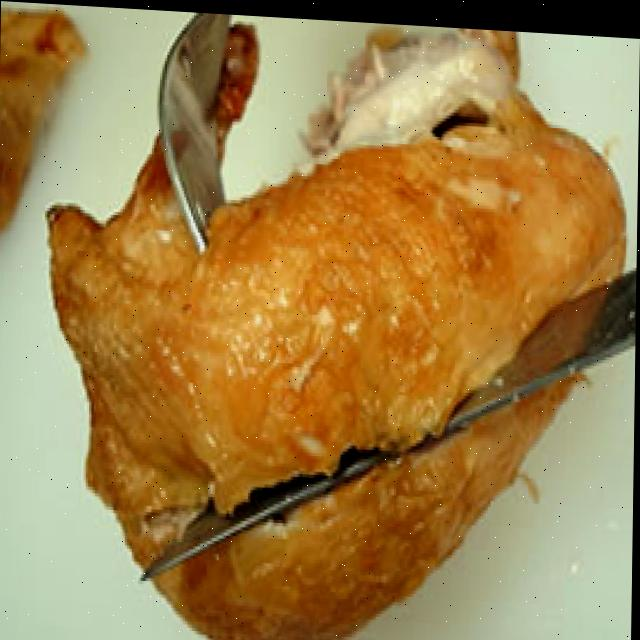鸡肉料理 含炸鸡: (45, 2, 640, 640)
